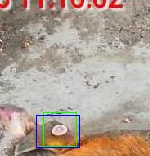text: (43, 112, 76, 146)
